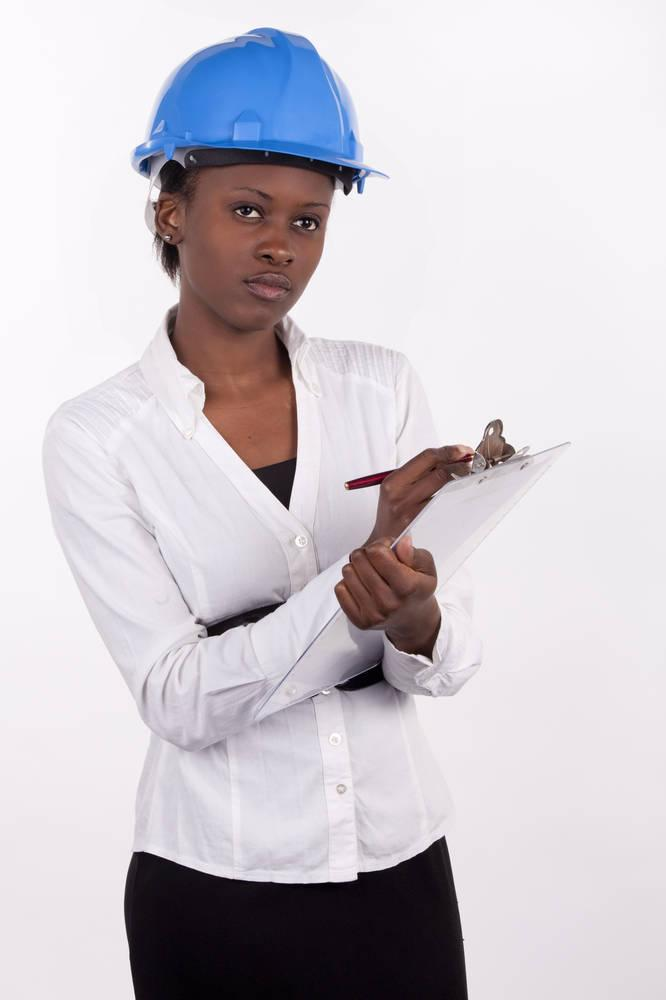helmet: (131, 26, 386, 201)
